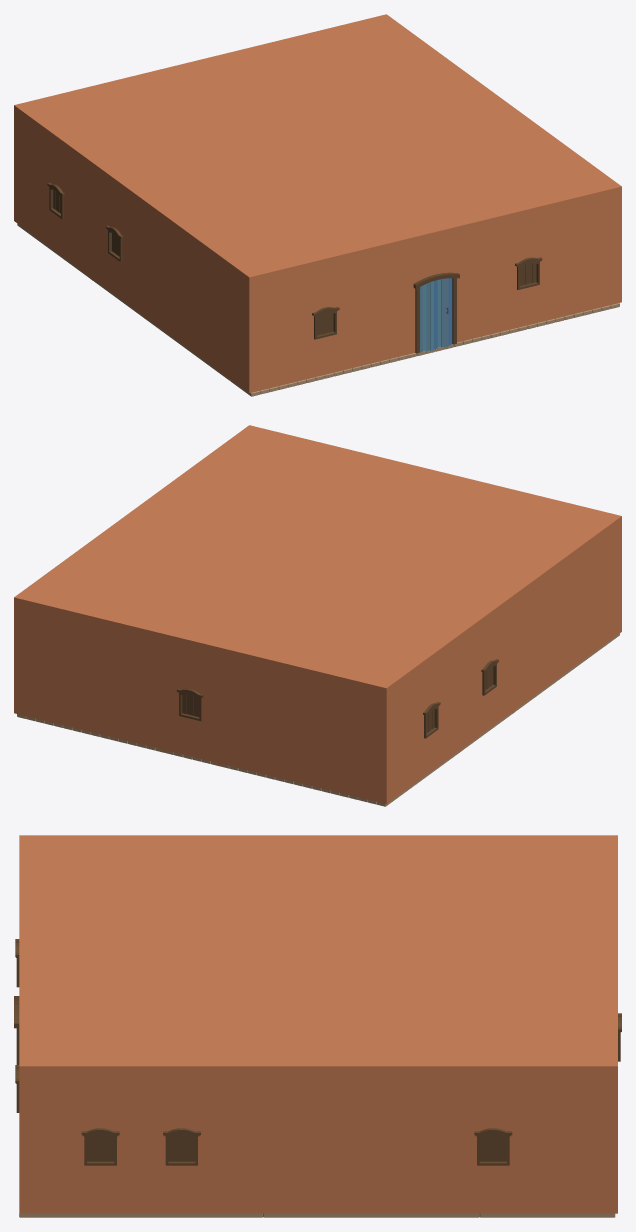
File: grandpaHouse_Ex.fbx
3 renders of one model, top to bottom at view 1: azimuth 30°, elevation 25°; view 2: azimuth 150°, elevation 25°; view 3: azimuth 270°, elevation 25°, orthographic. The views are drawn at different scales.
Parts seen in each view (by area): view 1: roof, wall_A, wall_B, floor, door, wall_C, door_outline_A, wall_D, window_B, window_A, Cube.293; view 2: roof, wall_C, wall_B, floor, wall_D, window_E, Cube.293; view 3: roof, wall_D, floor, wall_C, window_F, window_H, window_G, wall_B, Cube.293, Cube.296, Cube.291.
Part boxes in pixels (<box>): roof: <box>18,16,619,279</box>; wall_A: <box>251,187,619,392</box>; wall_B: <box>14,104,252,392</box>; floor: <box>17,223,619,396</box>; door: <box>420,278,452,352</box>; wall_C: <box>16,14,386,105</box>; door_outline_A: <box>413,272,459,353</box>; wall_D: <box>385,14,621,302</box>; window_B: <box>312,307,339,339</box>; window_A: <box>515,257,542,289</box>; Cube.293: <box>182,65,313,159</box>; roof: <box>16,425,619,691</box>; wall_C: <box>16,596,386,802</box>; wall_B: <box>383,515,621,803</box>; floor: <box>17,633,619,806</box>; wall_D: <box>14,425,250,713</box>; window_E: <box>176,688,203,721</box>; Cube.293: <box>218,552,349,766</box>; roof: <box>19,836,612,1065</box>; wall_D: <box>19,1064,617,1213</box>; floor: <box>19,1213,615,1217</box>; wall_C: <box>612,836,617,1065</box>; window_F: <box>474,1128,512,1165</box>; window_H: <box>81,1128,119,1165</box>; window_G: <box>163,1128,200,1165</box>; wall_B: <box>19,835,617,836</box>; Cube.293: <box>287,938,612,940</box>; Cube.296: <box>341,972,612,974</box>; Cube.291: <box>423,836,428,938</box>.
Size of the model in its own units: 20.5 by 6.22 by 22.45.
